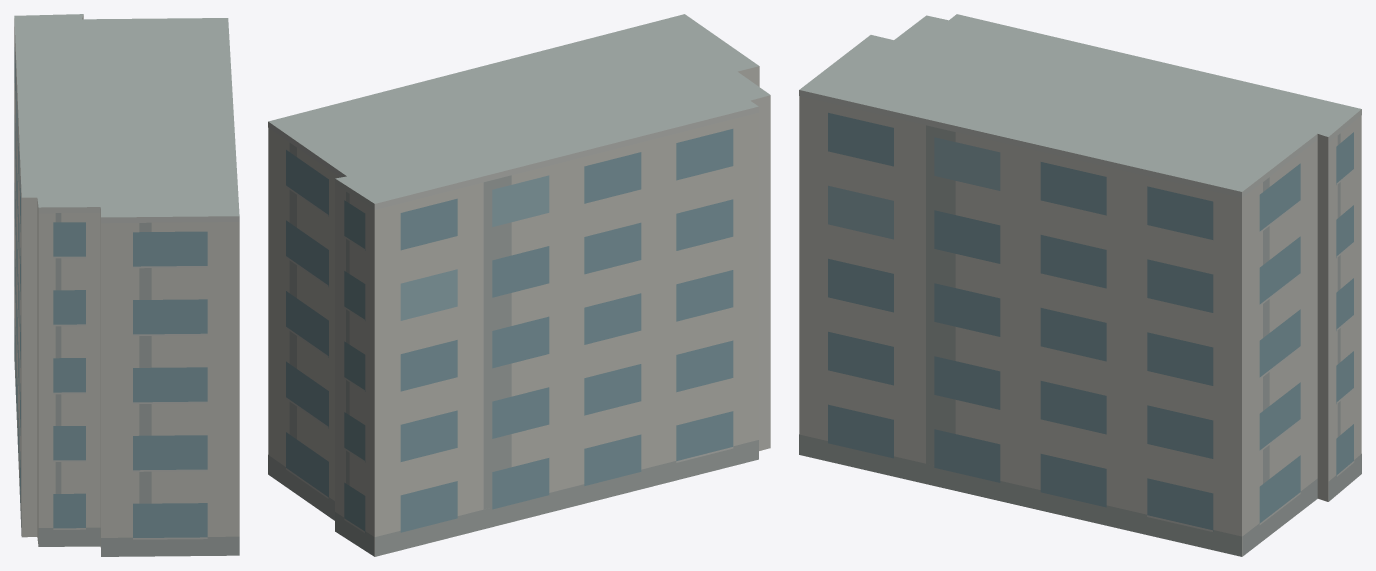
The model's file is survey-upis-32740573.glb.
The picture shows the model from 3 angles, left to right: view 1: azimuth 30°, elevation 25°; view 2: azimuth 150°, elevation 25°; view 3: azimuth 270°, elevation 25°; orthographic projection. The views are drawn at different scales.
Visible parts, largest first — view 1: survey-upis-32740573.tmp; view 2: survey-upis-32740573.tmp; view 3: survey-upis-32740573.tmp.
Boxes of the visible parts, x1=… form: survey-upis-32740573.tmp: x1=14, y1=14, x2=239, y2=556; survey-upis-32740573.tmp: x1=268, y1=14, x2=770, y2=556; survey-upis-32740573.tmp: x1=799, y1=14, x2=1361, y2=556.
Size of the model in its own units: 14.99 by 14.32 by 20.02.
